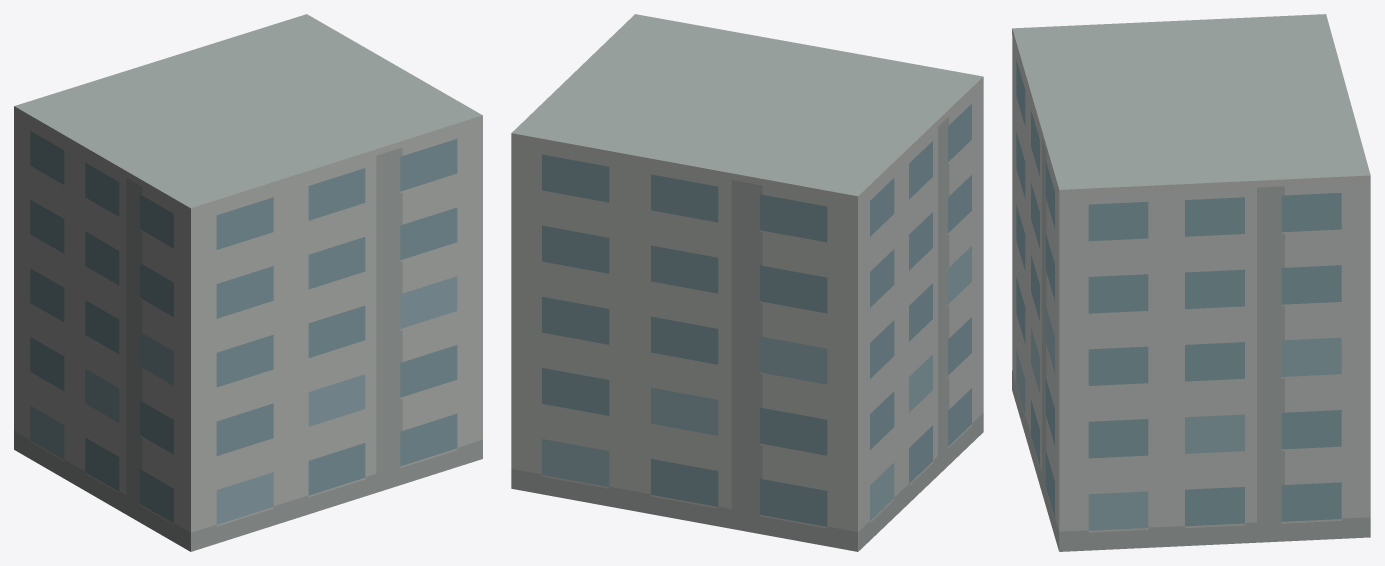
Rendered from survey-upis-32633394.glb.
3 renders of one model, left to right at view 1: azimuth 30°, elevation 25°; view 2: azimuth 150°, elevation 25°; view 3: azimuth 270°, elevation 25°, orthographic. The views are drawn at different scales.
Visible parts, largest first — view 1: survey-upis-32633394.tmp; view 2: survey-upis-32633394.tmp; view 3: survey-upis-32633394.tmp.
Part boxes in pixels (bbox=[...]): survey-upis-32633394.tmp: bbox=[14, 14, 482, 551]; survey-upis-32633394.tmp: bbox=[511, 14, 983, 551]; survey-upis-32633394.tmp: bbox=[1012, 14, 1370, 551].
Bounding box in the file's own units: 13.35 × 12.8 × 11.5.
